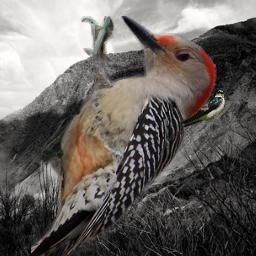Swallow: (180, 88, 225, 128)
Woodpecker: (31, 16, 217, 256)
